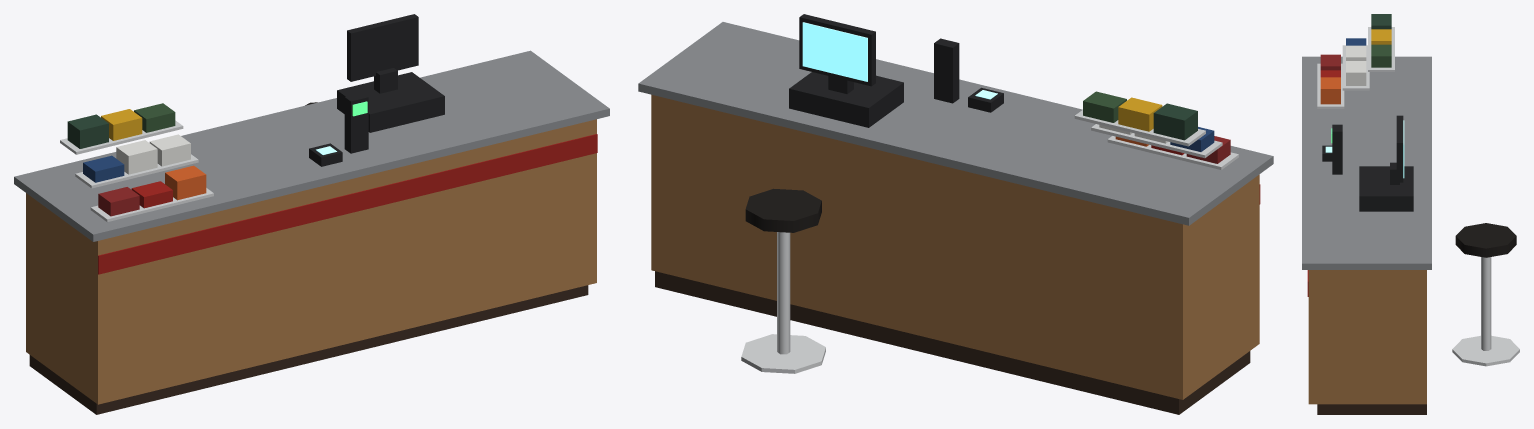
The model's file is checkout_counter.glb.
3 renders of one model, left to right at view 1: azimuth 30°, elevation 25°; view 2: azimuth 150°, elevation 25°; view 3: azimuth 270°, elevation 25°, orthographic. The views are drawn at different scales.
Visible parts, largest first — view 1: checkout_counter; view 2: checkout_counter; view 3: checkout_counter.
Part boxes in pixels (<box>): checkout_counter: <box>14,14,609,414</box>; checkout_counter: <box>638,14,1273,414</box>; checkout_counter: <box>1302,14,1519,414</box>.
Bounding box in the file's own units: 2.9 × 1.46 × 1.29.
Materials: 1 (1 with a texture image).
